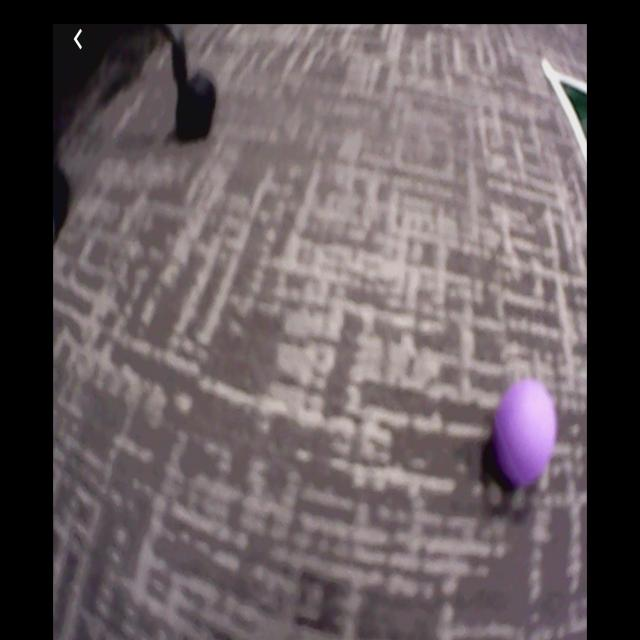ball: (493, 377, 560, 489)
